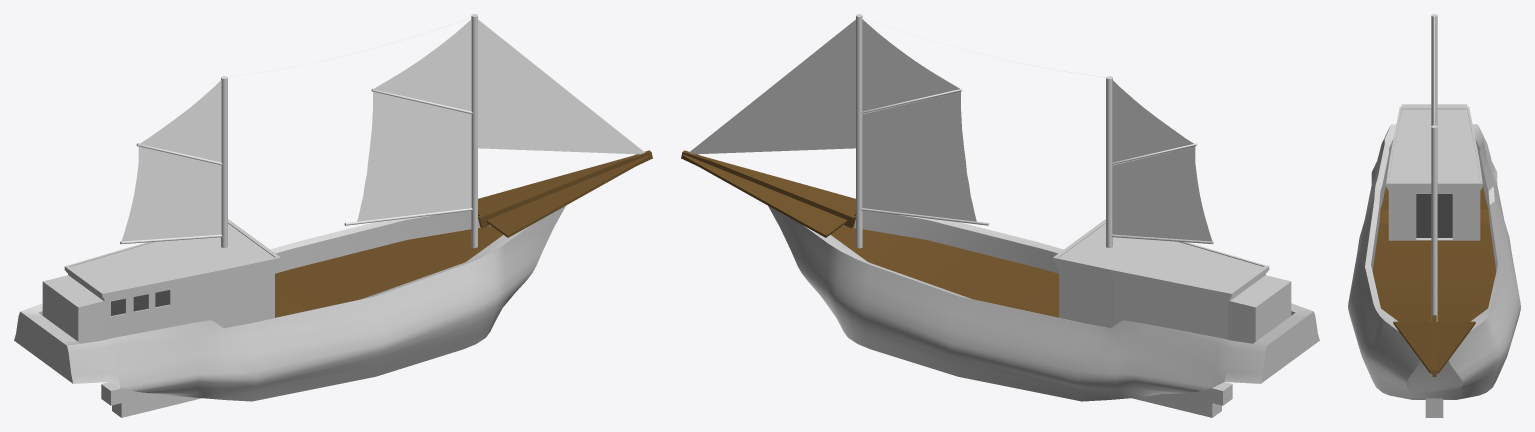
Rendered from BULUKUMBA.fbx.
3 renders of one model, left to right at view 1: azimuth 30°, elevation 25°; view 2: azimuth 150°, elevation 25°; view 3: azimuth 270°, elevation 25°, orthographic. The views are drawn at different scales.
Parts seen in each view (by area): view 1: Cube, Cylinder; view 2: Cube, Cylinder; view 3: Cube, Cylinder.
Boxes of the visible parts, <box> form: Cube: <box>14,150,652,417</box>; Cylinder: <box>120,14,644,248</box>; Cube: <box>681,150,1319,417</box>; Cylinder: <box>689,14,1213,248</box>; Cube: <box>1348,104,1520,417</box>; Cylinder: <box>1431,14,1437,321</box>.
Bounding box in the file's own units: 451 × 221 × 121.
